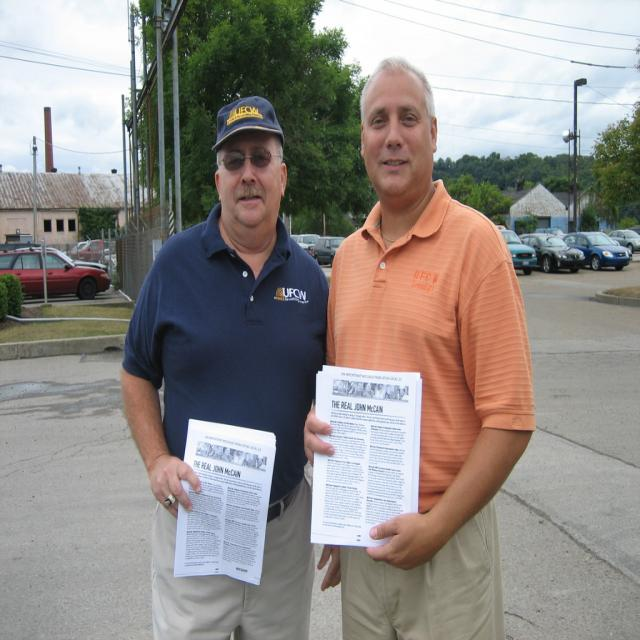other: (0, 239, 119, 300), (496, 227, 639, 274), (288, 232, 346, 267)
